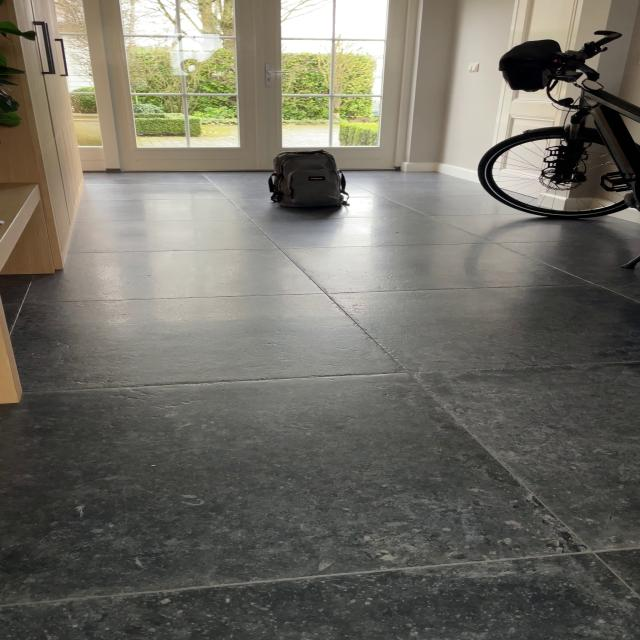backpack: (262, 147, 349, 211)
